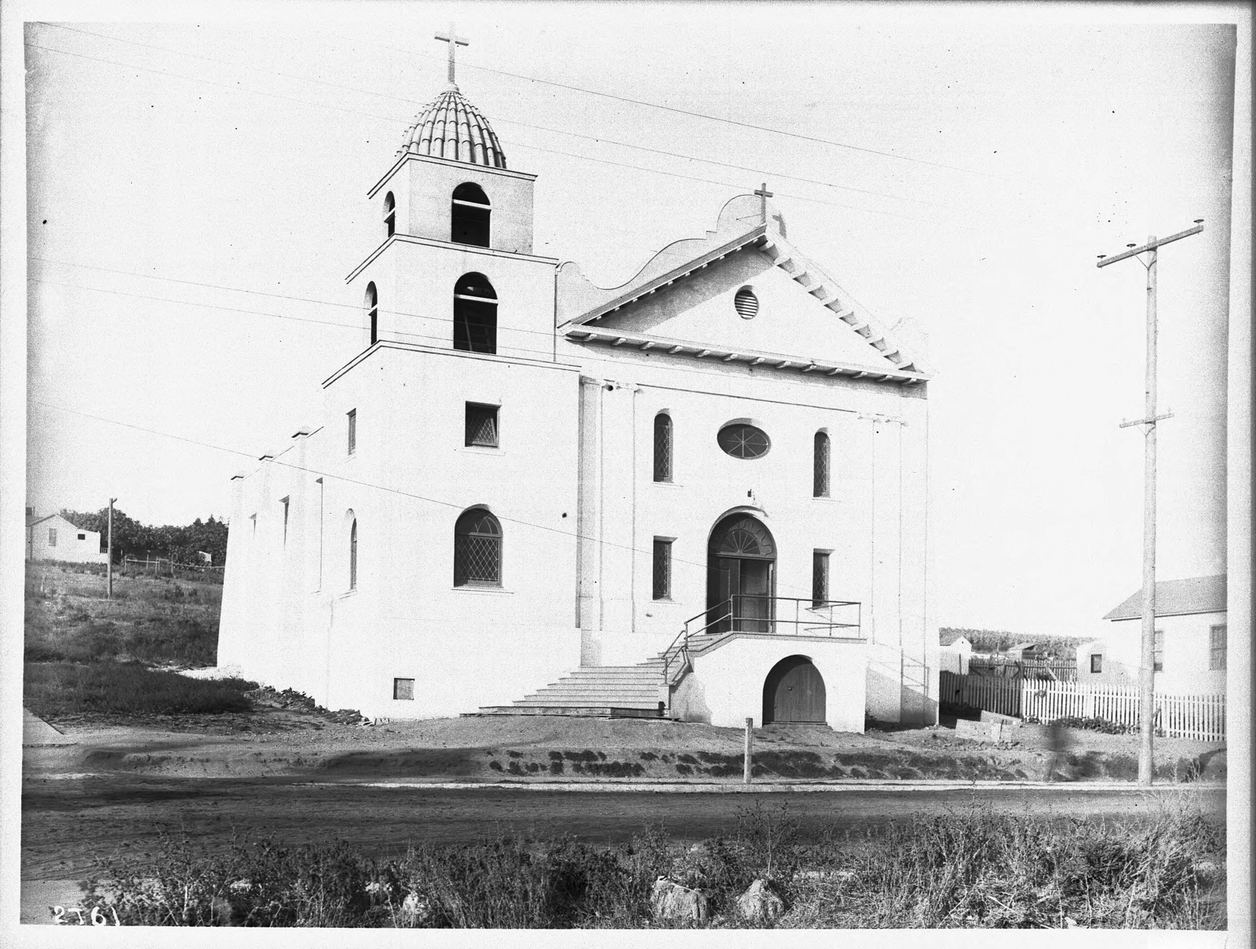fachada: (220, 10, 971, 752), (29, 492, 126, 571)
poste: (1062, 175, 1217, 791)
